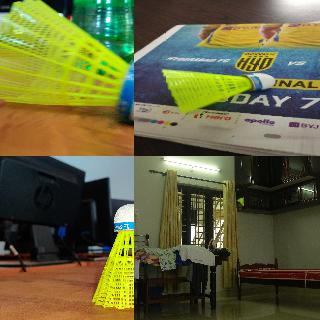shuttlecock: (0, 0, 133, 121), (162, 68, 275, 112), (92, 203, 133, 309), (236, 197, 244, 205)
